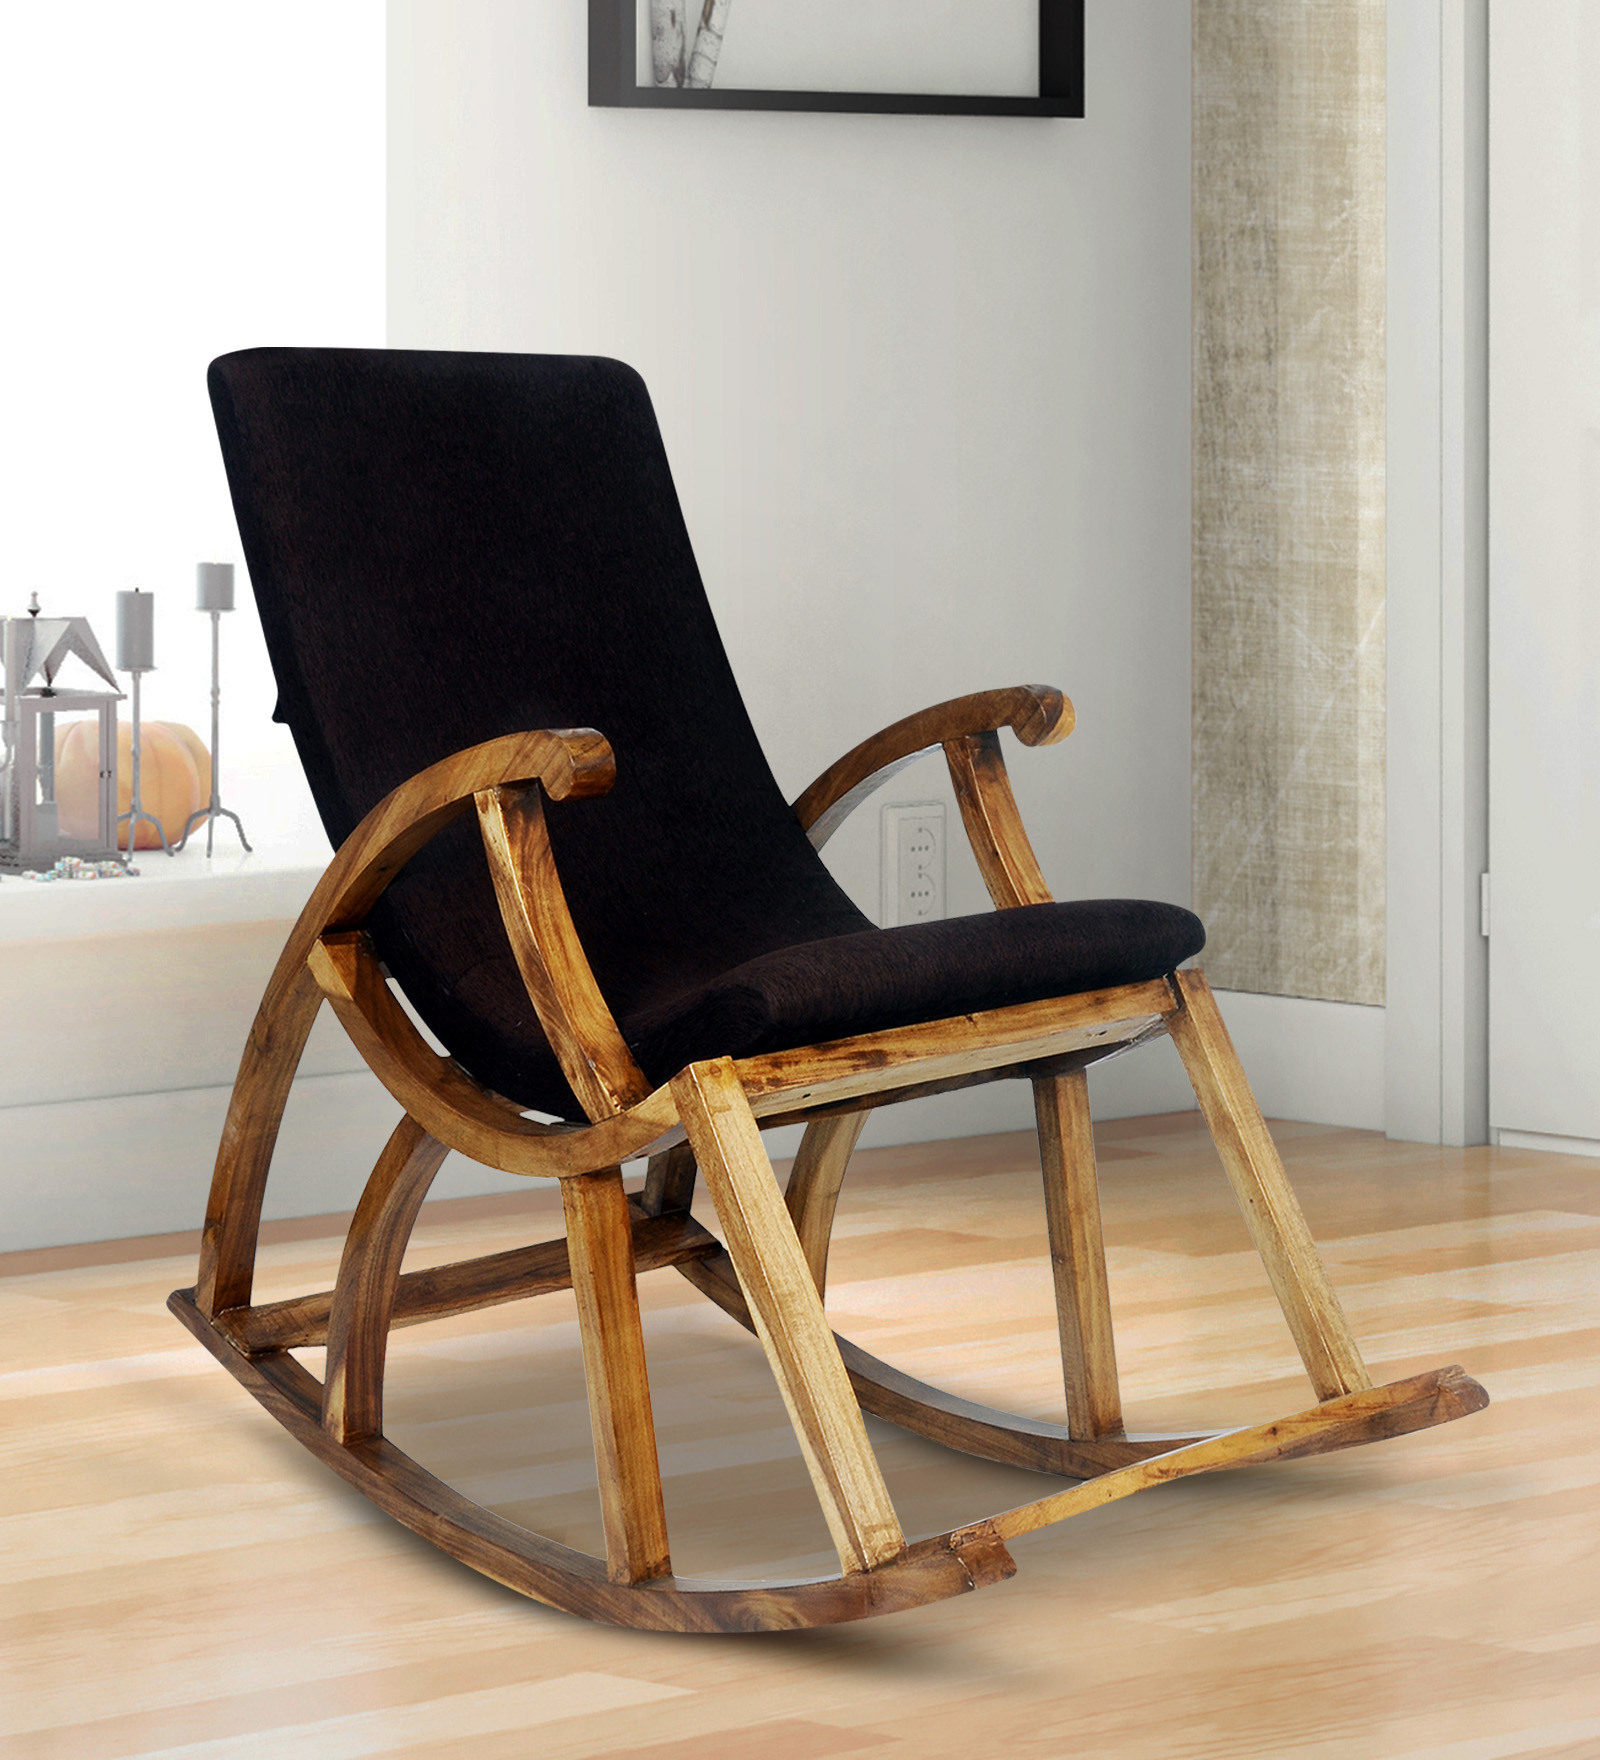Upholstered Teak Wood Rocking Chair in Natural Finish by Furniease: (133, 273, 1528, 1663)
